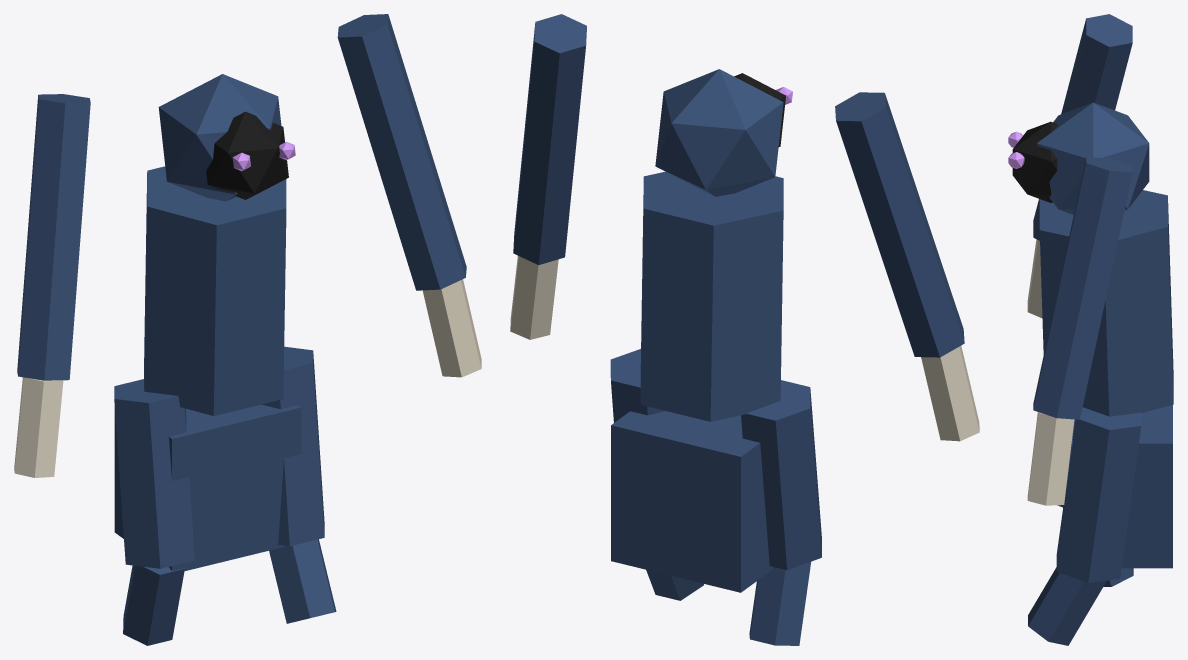
The model's file is npcpose_wraith_walk_04.glb.
3 views of the same model, side by side, from view 1: azimuth 30°, elevation 25°; view 2: azimuth 150°, elevation 25°; view 3: azimuth 270°, elevation 25° (orthographic). The views are drawn at different scales.
Visible parts, largest first — view 1: npcpose; view 2: npcpose; view 3: npcpose.
Boxes of the visible parts, x1=… form: npcpose: x1=14, y1=14, x2=481, y2=645; npcpose: x1=510, y1=14, x2=979, y2=645; npcpose: x1=1008, y1=14, x2=1173, y2=645.
Bounding box in the file's own units: 0.9388 × 1.09 × 0.3123.
